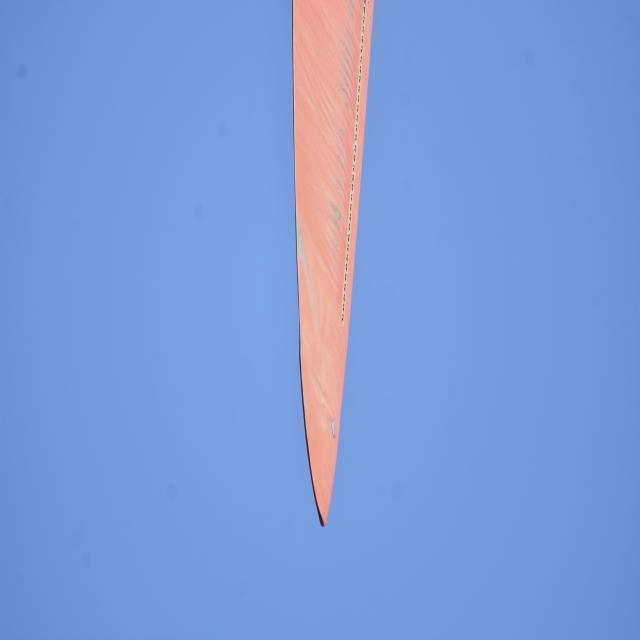Coating_defects: (326, 417, 339, 441)
